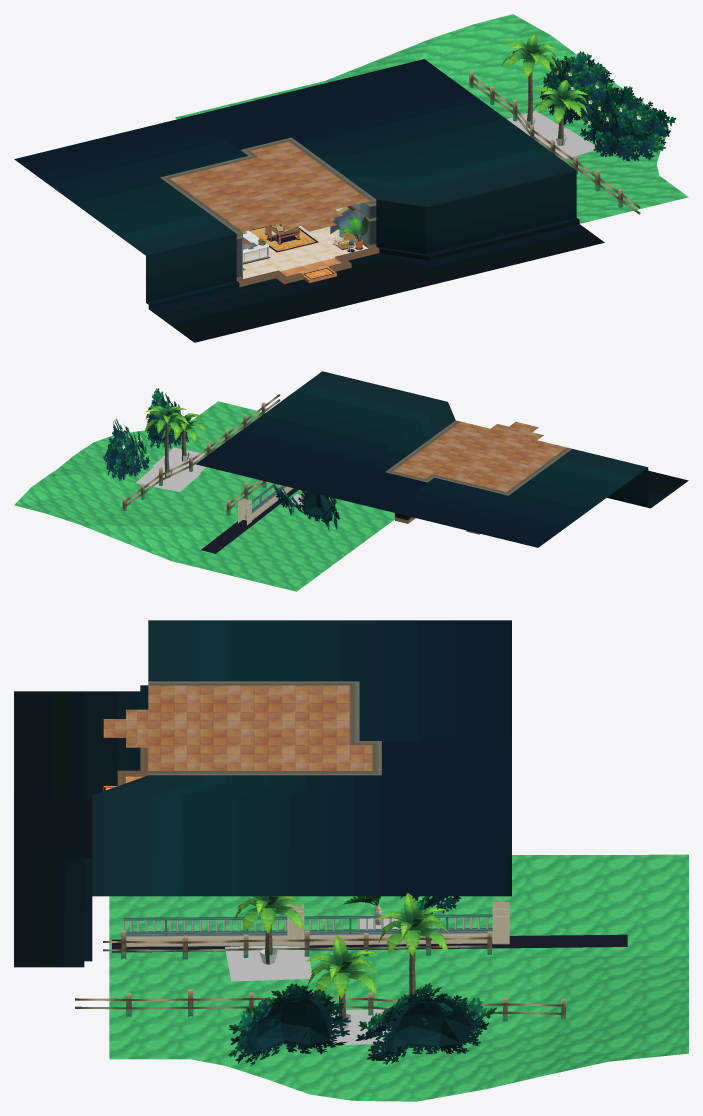
Rendered from Model - Kitchen Living Room.dae.
The picture shows the model from 3 angles, top to bottom: view 1: azimuth 30°, elevation 25°; view 2: azimuth 150°, elevation 25°; view 3: azimuth 270°, elevation 25°; orthographic projection. The views are drawn at different scales.
Parts seen in each view (by area): view 1: all_world_rmbg_OptMesh_7_0_node, beranda_ground_1_0_node, f0102r0101_rp04_OptMesh_11_0_node, f0102r0101_cutout01_OptMesh_27_0_node, f0102r0101_obj01_OptMesh_10_0_node, beranda_trees_4_0_node, f0102r0101_rp02_OptMesh_8_0_node, f0102r0101_obj04_OptMesh_18_0_node, beranda_trees_2_0_node, f0102r0101_rp03_OptMesh_9_0_node, f0102r0101_rp05_OptMesh_20_0_node, f0102r0101_obj02_OptMesh_24_0_node; view 2: all_world_rmbg_OptMesh_7_0_node, beranda_ground_1_0_node, f0102r0101_rp04_OptMesh_11_0_node, f0102r0101_cutout01_OptMesh_27_0_node, f0102r0101_obj04_OptMesh_18_0_node, beranda_trees_2_0_node, beranda_trees_4_0_node, f0102r0101_obj01_OptMesh_10_0_node, all_world_rmsdw1_OptMesh_23_0_node; view 3: all_world_rmbg_OptMesh_7_0_node, beranda_ground_1_0_node, f0102r0101_rp04_OptMesh_11_0_node, f0102r0101_cutout01_OptMesh_27_0_node, f0102r0101_obj04_OptMesh_18_0_node, beranda_trees_4_0_node, f0102r0101_obj01_OptMesh_10_0_node, beranda_trees_2_0_node, all_world_rmsdw1_OptMesh_23_0_node.
Boxes of the visible parts, <box> form: all_world_rmbg_OptMesh_7_0_node: <box>14,59,604,342</box>; beranda_ground_1_0_node: <box>175,14,688,223</box>; f0102r0101_rp04_OptMesh_11_0_node: <box>170,141,369,231</box>; f0102r0101_cutout01_OptMesh_27_0_node: <box>540,51,676,161</box>; f0102r0101_obj01_OptMesh_10_0_node: <box>160,137,379,287</box>; beranda_trees_4_0_node: <box>501,34,587,145</box>; f0102r0101_rp02_OptMesh_8_0_node: <box>243,226,368,278</box>; f0102r0101_obj04_OptMesh_18_0_node: <box>347,71,640,214</box>; beranda_trees_2_0_node: <box>507,110,595,159</box>; f0102r0101_rp03_OptMesh_9_0_node: <box>236,202,376,277</box>; f0102r0101_rp05_OptMesh_20_0_node: <box>280,258,340,282</box>; f0102r0101_obj02_OptMesh_24_0_node: <box>250,227,315,251</box>; all_world_rmbg_OptMesh_7_0_node: <box>195,371,688,547</box>; beranda_ground_1_0_node: <box>14,401,394,591</box>; f0102r0101_rp04_OptMesh_11_0_node: <box>393,421,566,491</box>; f0102r0101_cutout01_OptMesh_27_0_node: <box>103,388,340,531</box>; f0102r0101_obj04_OptMesh_18_0_node: <box>122,394,293,525</box>; beranda_trees_2_0_node: <box>135,447,206,492</box>; beranda_trees_4_0_node: <box>144,406,206,477</box>; f0102r0101_obj01_OptMesh_10_0_node: <box>385,420,572,534</box>; all_world_rmsdw1_OptMesh_23_0_node: <box>201,488,298,553</box>; all_world_rmbg_OptMesh_7_0_node: <box>14,620,511,967</box>; beranda_ground_1_0_node: <box>109,854,688,1101</box>; f0102r0101_rp04_OptMesh_11_0_node: <box>103,685,371,770</box>; f0102r0101_cutout01_OptMesh_27_0_node: <box>123,896,496,1066</box>; f0102r0101_obj04_OptMesh_18_0_node: <box>75,902,565,1022</box>; beranda_trees_4_0_node: <box>232,893,450,1028</box>; f0102r0101_obj01_OptMesh_10_0_node: <box>117,681,381,785</box>; beranda_trees_2_0_node: <box>225,946,391,1045</box>; all_world_rmsdw1_OptMesh_23_0_node: <box>104,787,627,952</box>.
Bounding box in the file's own units: 4211 × 650 × 3017.
